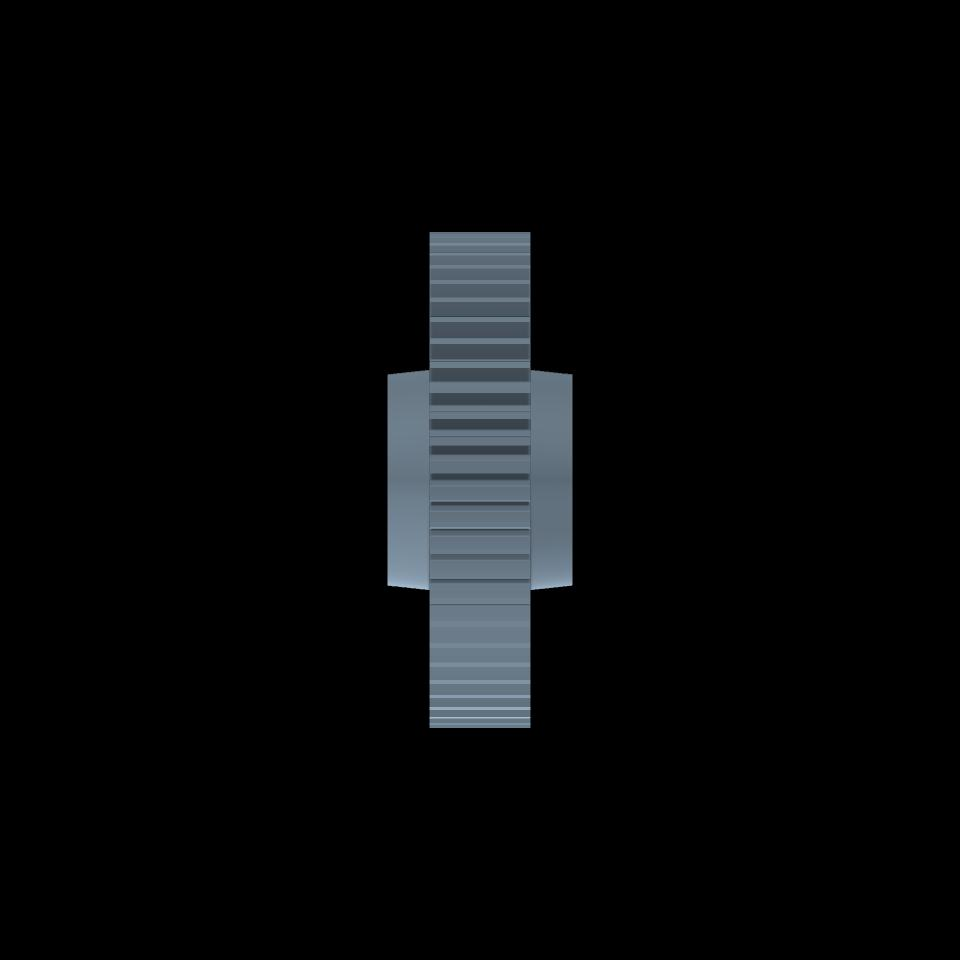Straight: (430, 233, 529, 728)
